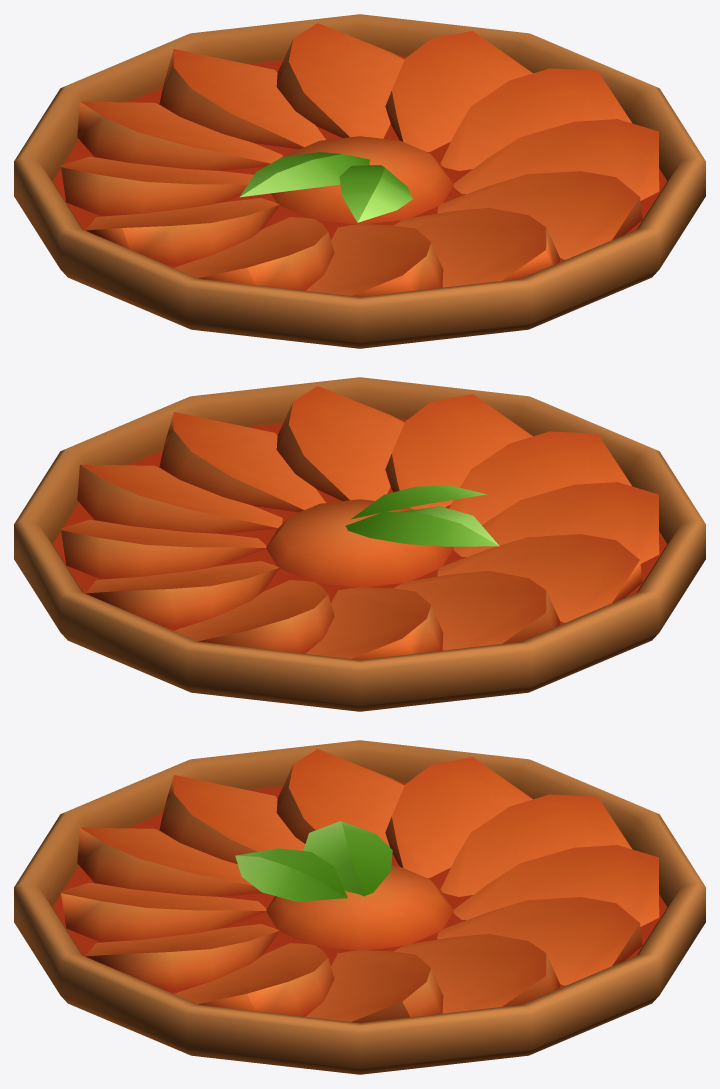
The model's file is m_TarteTatin01.fbx.
The picture shows the model from 3 angles, top to bottom: view 1: azimuth 30°, elevation 25°; view 2: azimuth 150°, elevation 25°; view 3: azimuth 270°, elevation 25°; orthographic projection.
Parts seen in each view (by area): view 1: m_TarteTatin01; view 2: m_TarteTatin01; view 3: m_TarteTatin01.
Part boxes in pixels (<box>): m_TarteTatin01: <box>14,14,705,348</box>; m_TarteTatin01: <box>14,377,705,711</box>; m_TarteTatin01: <box>14,740,705,1074</box>.
Bounding box in the file's own units: 28 × 2.89 × 28.
